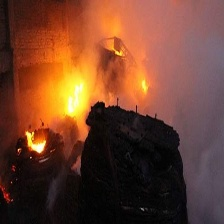fire: (65, 79, 87, 116), (28, 139, 51, 156), (140, 75, 149, 94)
smoke: (148, 6, 224, 201)
